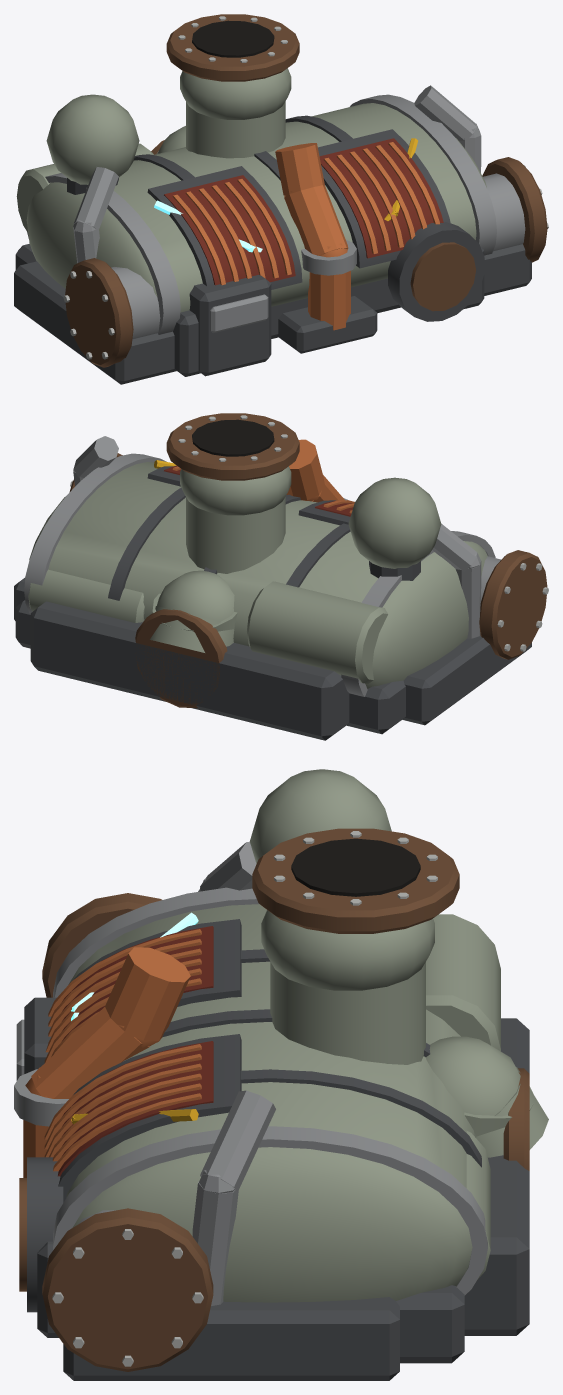
File: heat-exchanger.glb
The picture shows the model from 3 angles, top to bottom: view 1: azimuth 30°, elevation 25°; view 2: azimuth 150°, elevation 25°; view 3: azimuth 270°, elevation 25°; orthographic projection. The views are drawn at different scales.
Visible parts, largest first — view 1: body, anim_glow_heatex, anim_glow_heat; view 2: body, anim_glow_heat, anim_glow_heatex; view 3: body, anim_glow_heatex, anim_glow_heat.
Boxes of the visible parts, x1,y1,x2,y2 form: body: (14, 14, 548, 384); anim_glow_heatex: (164, 138, 443, 285); anim_glow_heat: (275, 143, 350, 330); body: (14, 413, 548, 740); anim_glow_heat: (286, 439, 344, 502); anim_glow_heatex: (164, 465, 354, 516); body: (14, 769, 548, 1380); anim_glow_heatex: (44, 926, 213, 1176); anim_glow_heat: (23, 947, 190, 1177).
Bounding box in the file's own units: 3.04 × 1.55 × 2.06.
